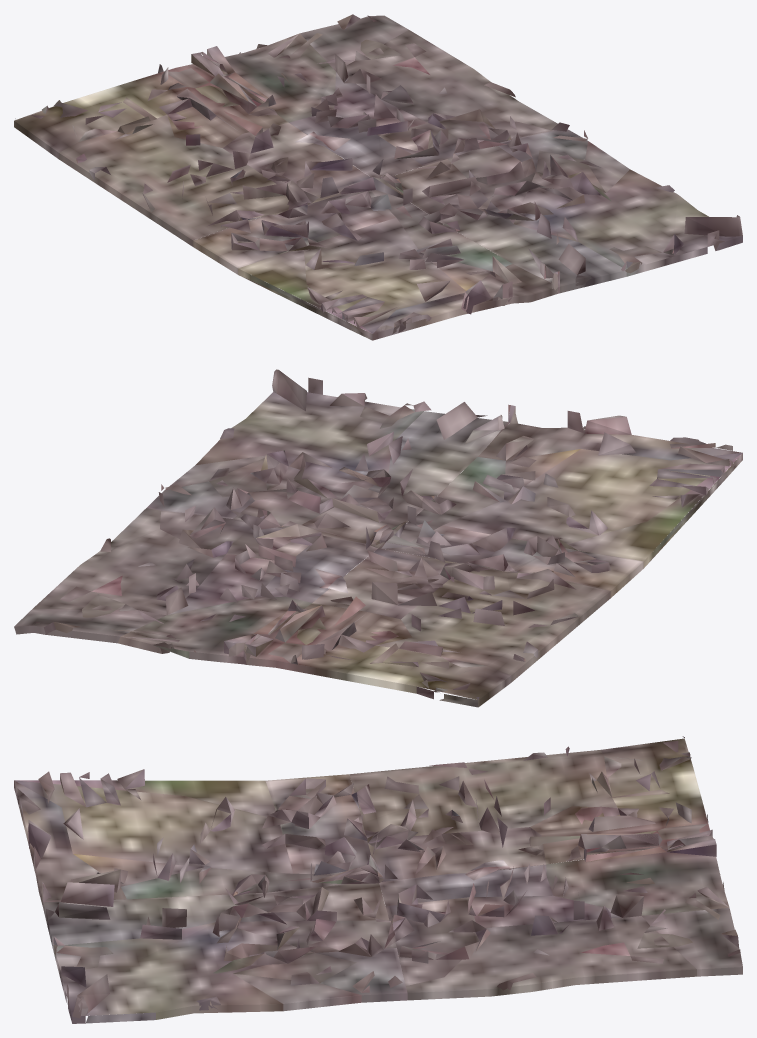
3 views of the same model, one above another, from view 1: azimuth 30°, elevation 25°; view 2: azimuth 150°, elevation 25°; view 3: azimuth 270°, elevation 25° (orthographic). The views are drawn at different scales.
Parts seen in each view (by area): view 1: Mesh_0; view 2: Mesh_0; view 3: Mesh_0.
Boxes of the visible parts, <box> form: Mesh_0: <box>14,14,742,340</box>; Mesh_0: <box>14,369,742,707</box>; Mesh_0: <box>14,736,742,1023</box>.
Size of the model in its own units: 1064 by 104 by 1318.
1 material, 1 textured.
